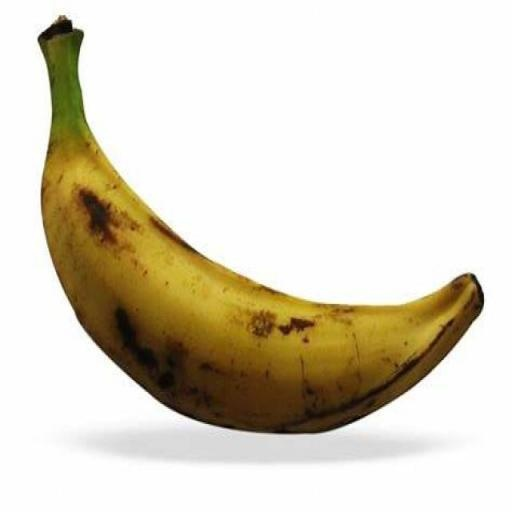fruit: (23, 22, 76, 125)
